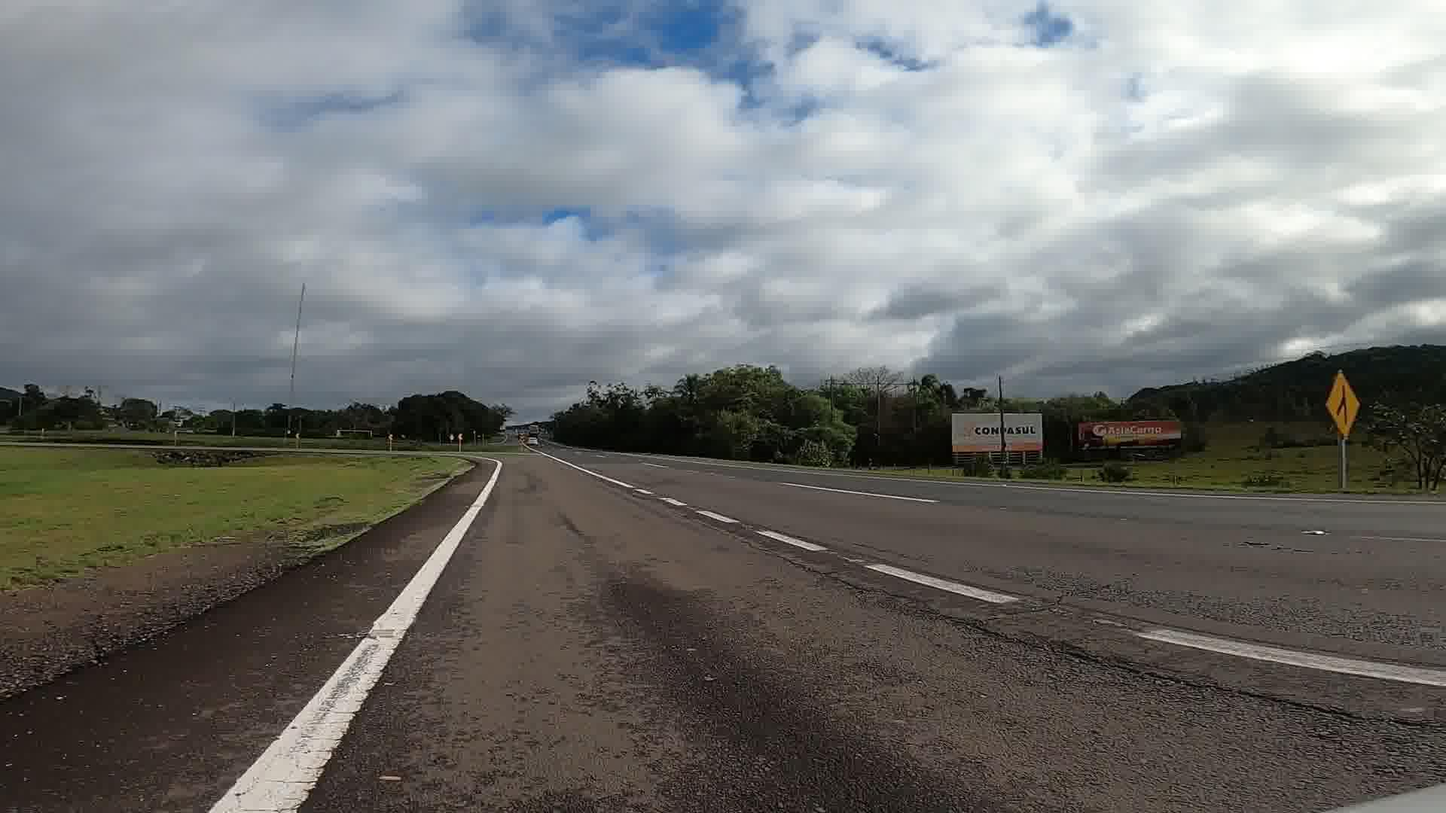A-13a: (1322, 373, 1362, 439)
